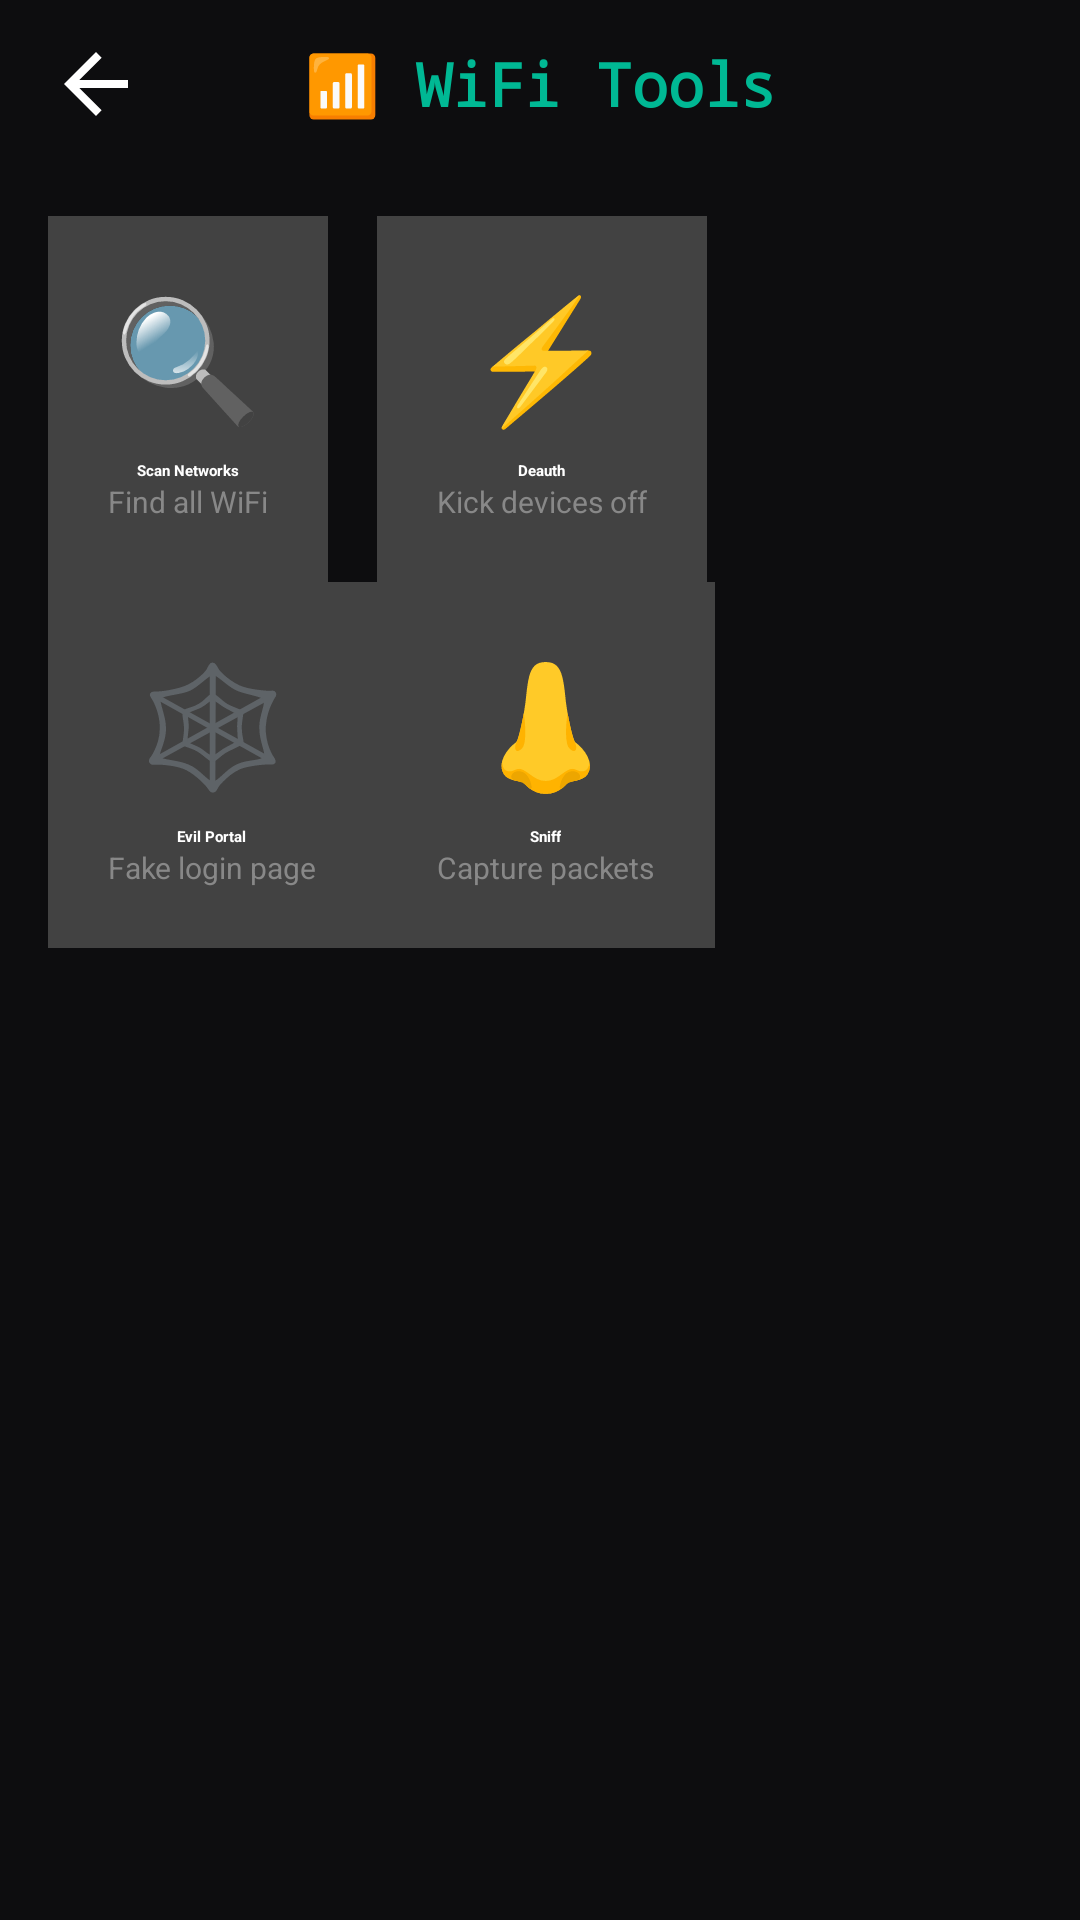

Point at icon controls on the screen. Image size 1080px x 1920px, points as (x=x, y=y).
back: (x=96, y=84)
